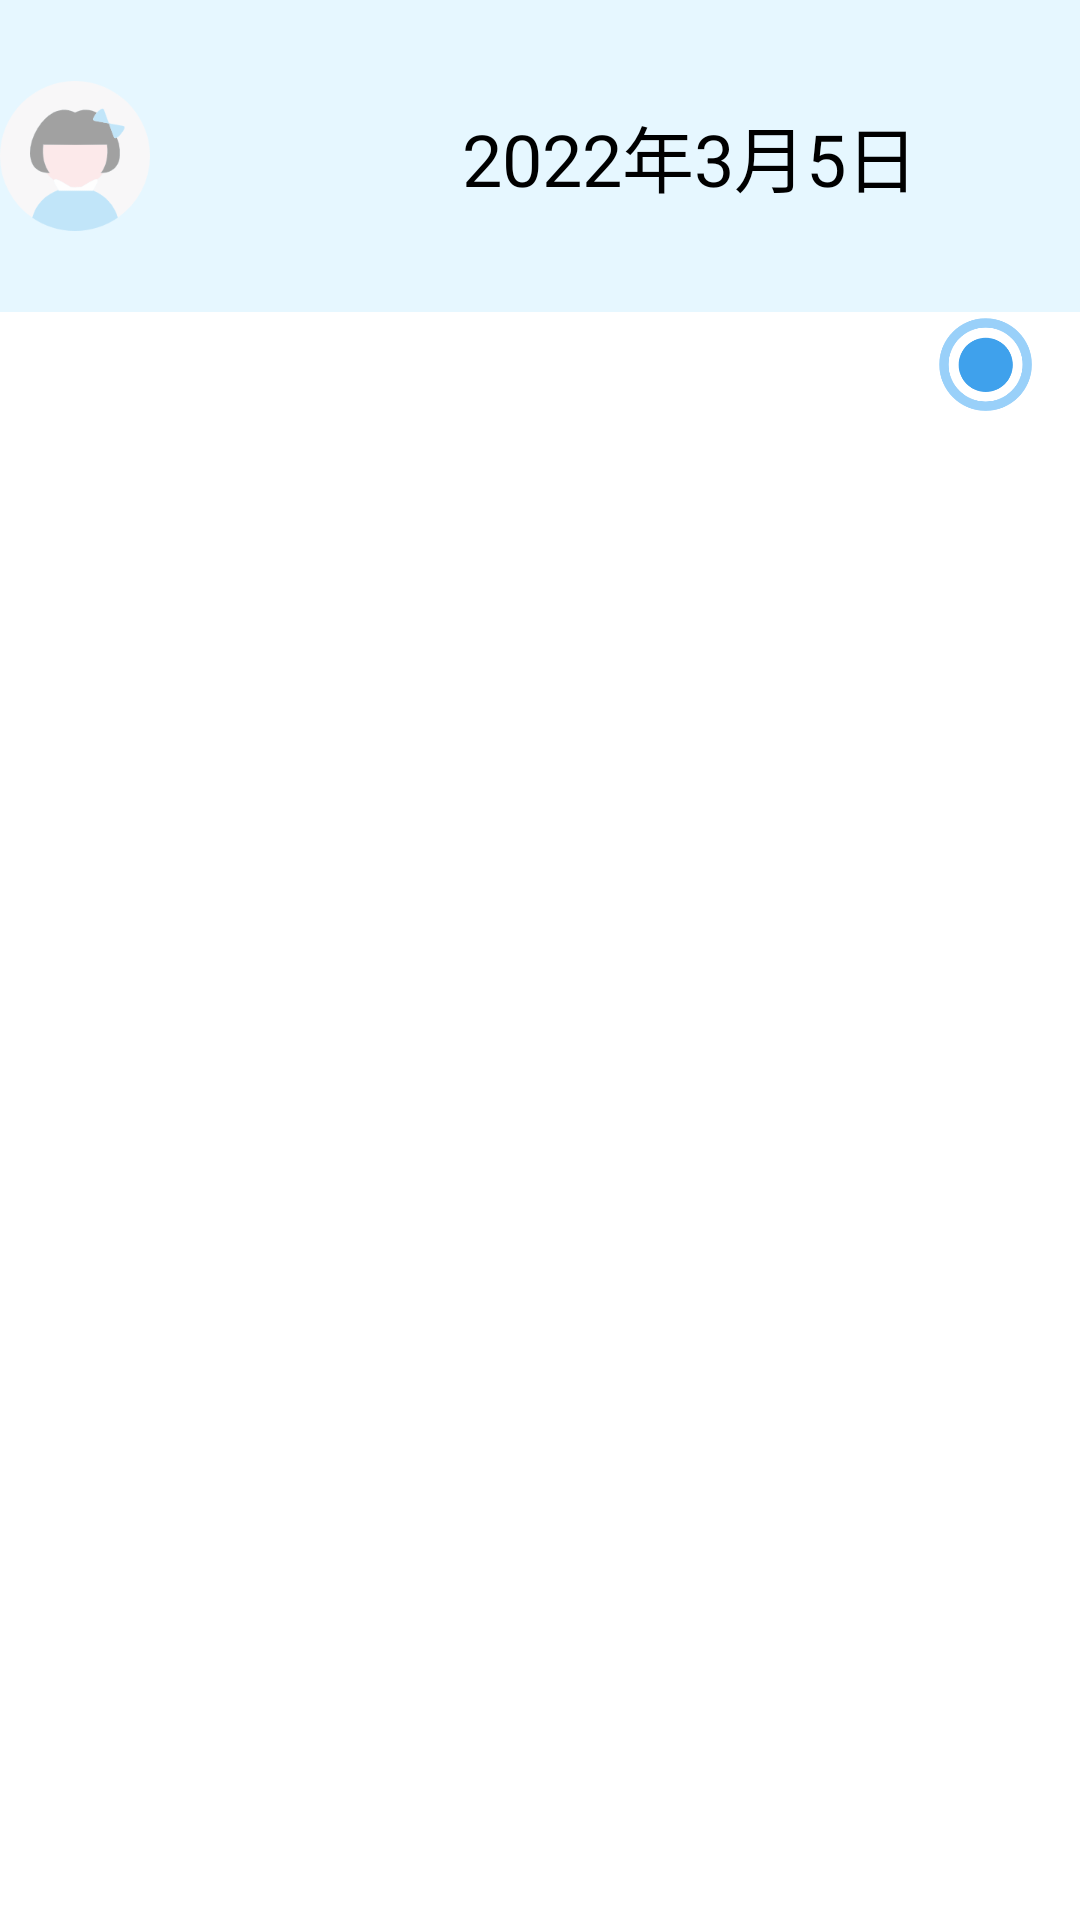

Locate icon controls on the screen. Image size 1080 x 1920, boxes as (x1, y1, x2, y2).
circle: (939, 318, 1032, 411)
littlegirl: (30, 109, 124, 231)
